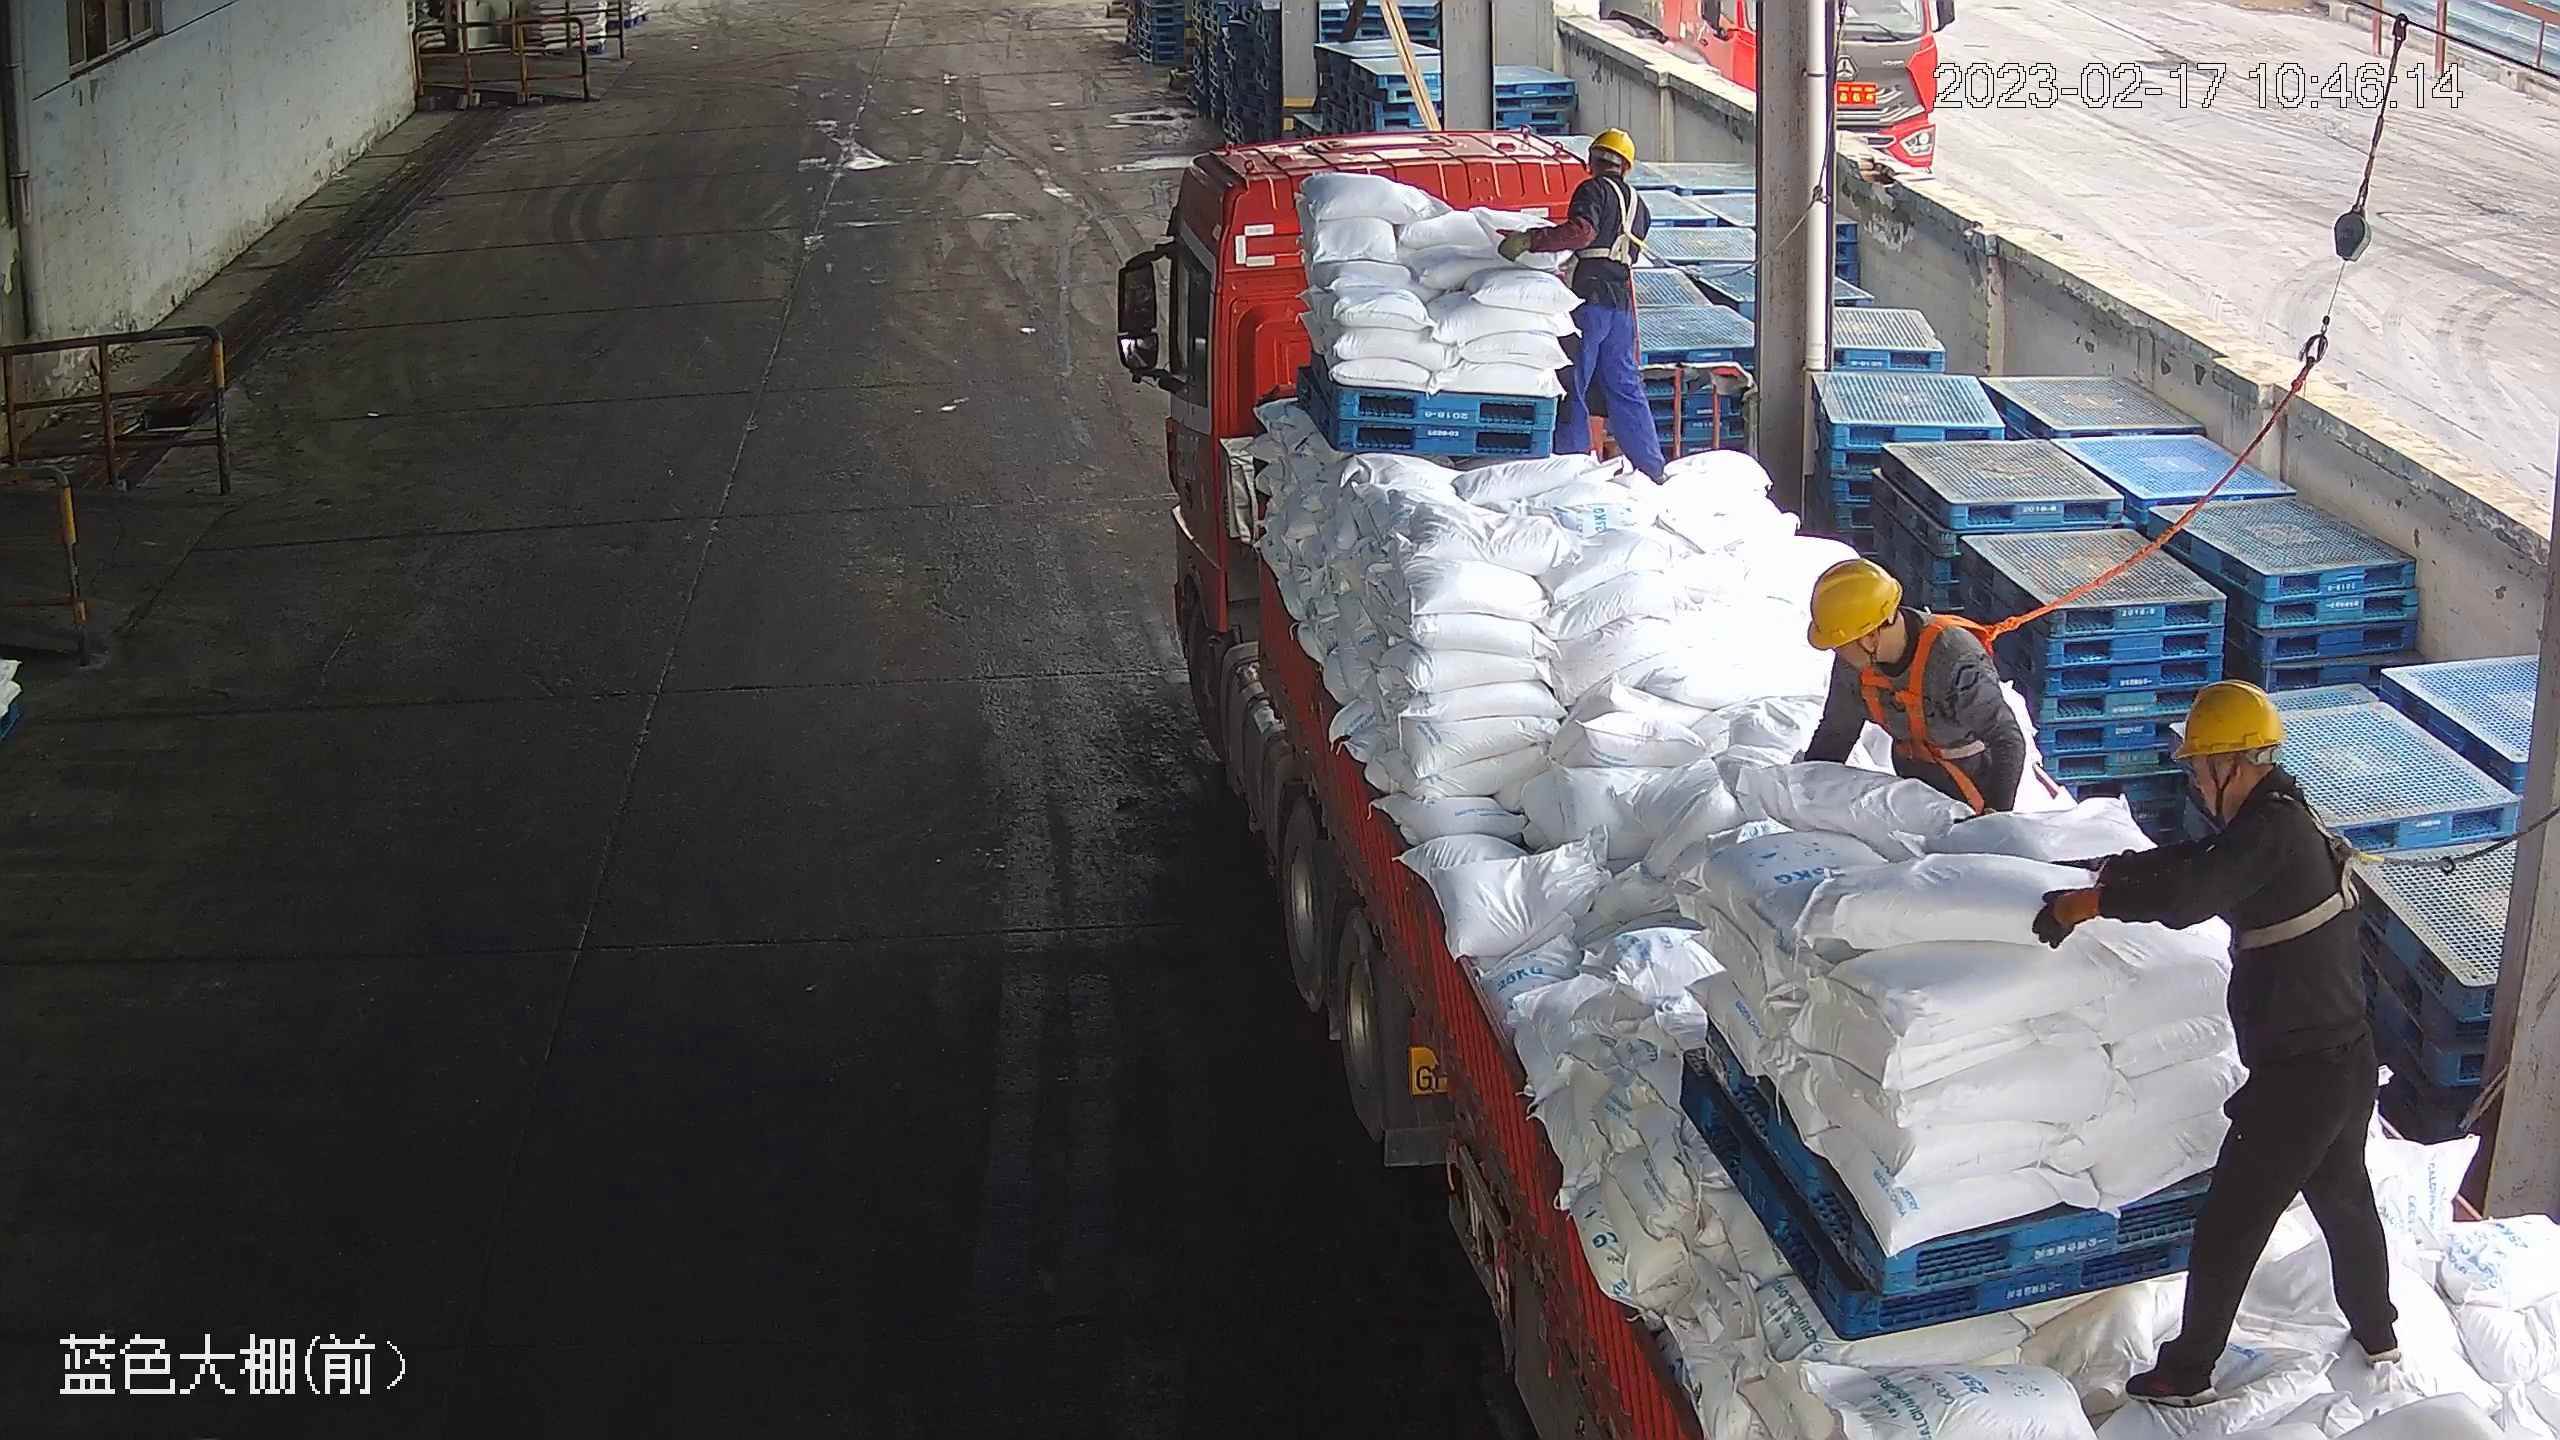belt: (2222, 786, 2423, 956), (1857, 613, 2042, 776), (1576, 167, 1657, 264)
head: (2129, 681, 2352, 923), (1800, 559, 2018, 754), (1535, 125, 1652, 256)
helmet: (2173, 678, 2286, 762), (1808, 557, 1905, 652), (1588, 127, 1639, 167)
people: (2032, 679, 2403, 1410), (1495, 123, 1673, 491)
truck: (1117, 123, 2560, 1440)
